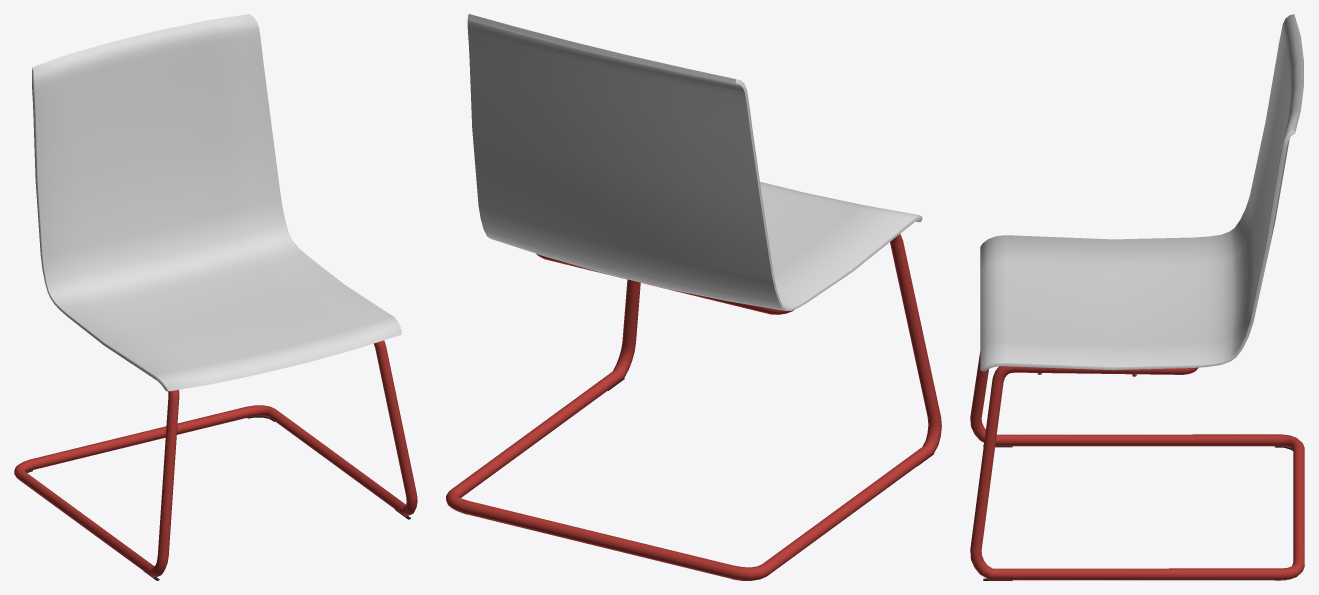
File: TobiasChair.FBX
3 views of the same model, side by side, from view 1: azimuth 30°, elevation 25°; view 2: azimuth 150°, elevation 25°; view 3: azimuth 270°, elevation 25° (orthographic). The views are drawn at different scales.
Parts seen in each view (by area): view 1: TobiasChair; view 2: TobiasChair; view 3: TobiasChair.
Boxes of the visible parts, box(x1,y1,x2,y2) form: TobiasChair: box(14, 14, 417, 580); TobiasChair: box(446, 14, 941, 580); TobiasChair: box(970, 14, 1304, 580).
Size of the model in its own units: 55 by 55.97 by 81.97.
